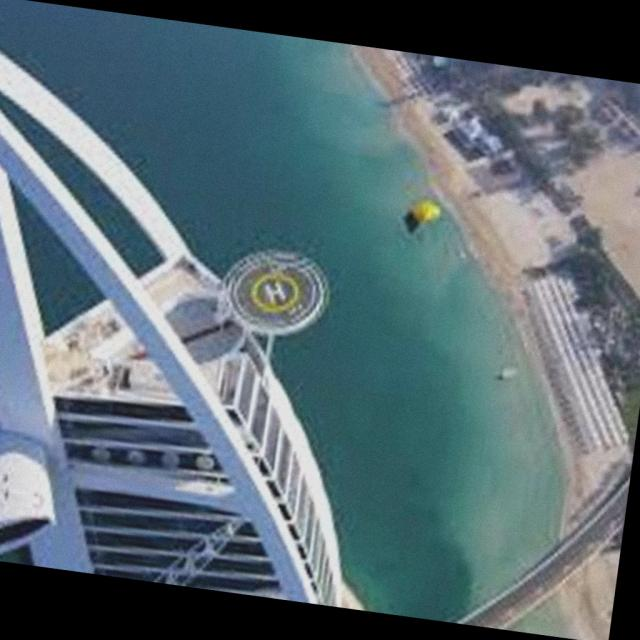helipad: (248, 270, 298, 312)
